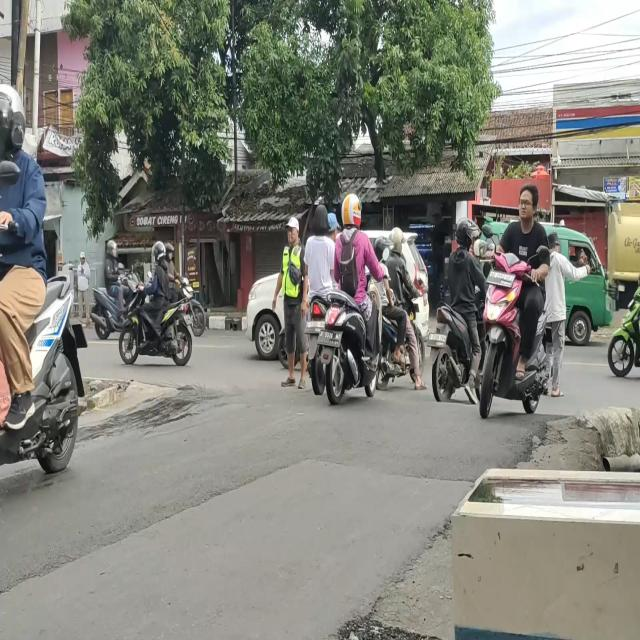helmet: (2, 80, 24, 142), (456, 214, 478, 246), (343, 193, 363, 226), (151, 239, 166, 267), (391, 229, 404, 253), (107, 239, 118, 264), (377, 236, 391, 253), (167, 244, 174, 260)
no-helmet: (516, 188, 536, 220), (312, 208, 326, 232), (326, 208, 337, 234)
